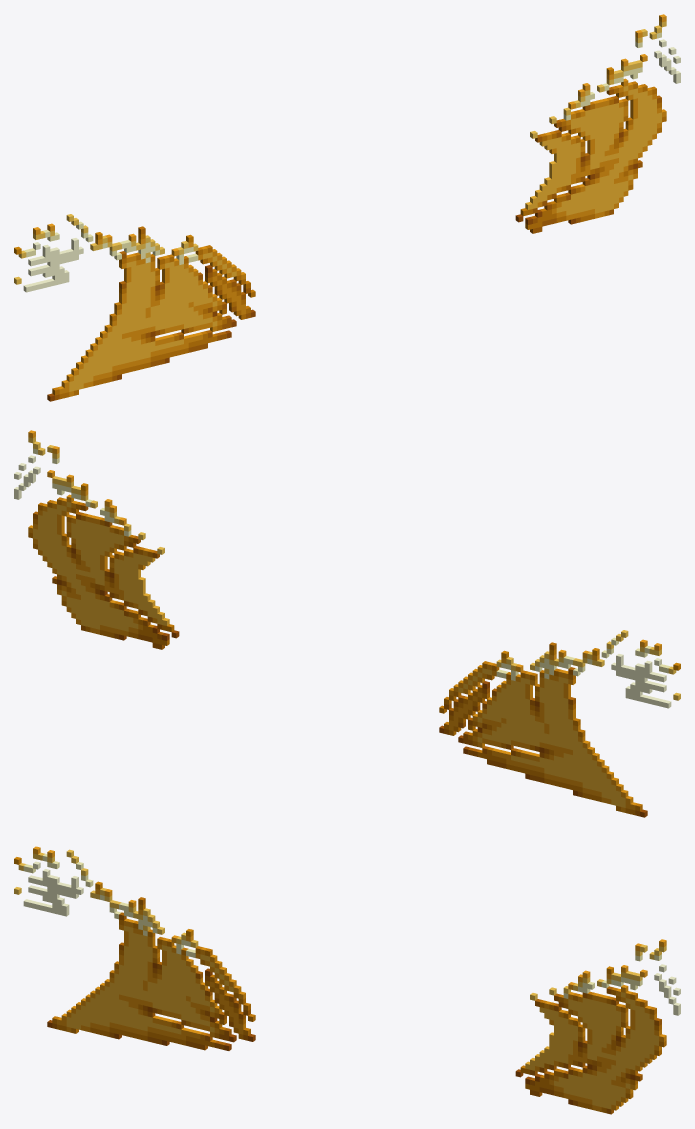
The model's file is Fight_756_2_03_fx.obj.
3 renders of one model, top to bottom at view 1: azimuth 30°, elevation 25°; view 2: azimuth 150°, elevation 25°; view 3: azimuth 330°, elevation 25°, orthographic.
Bounding box in the file's own units: 13.9 × 4.7 × 0.1.
